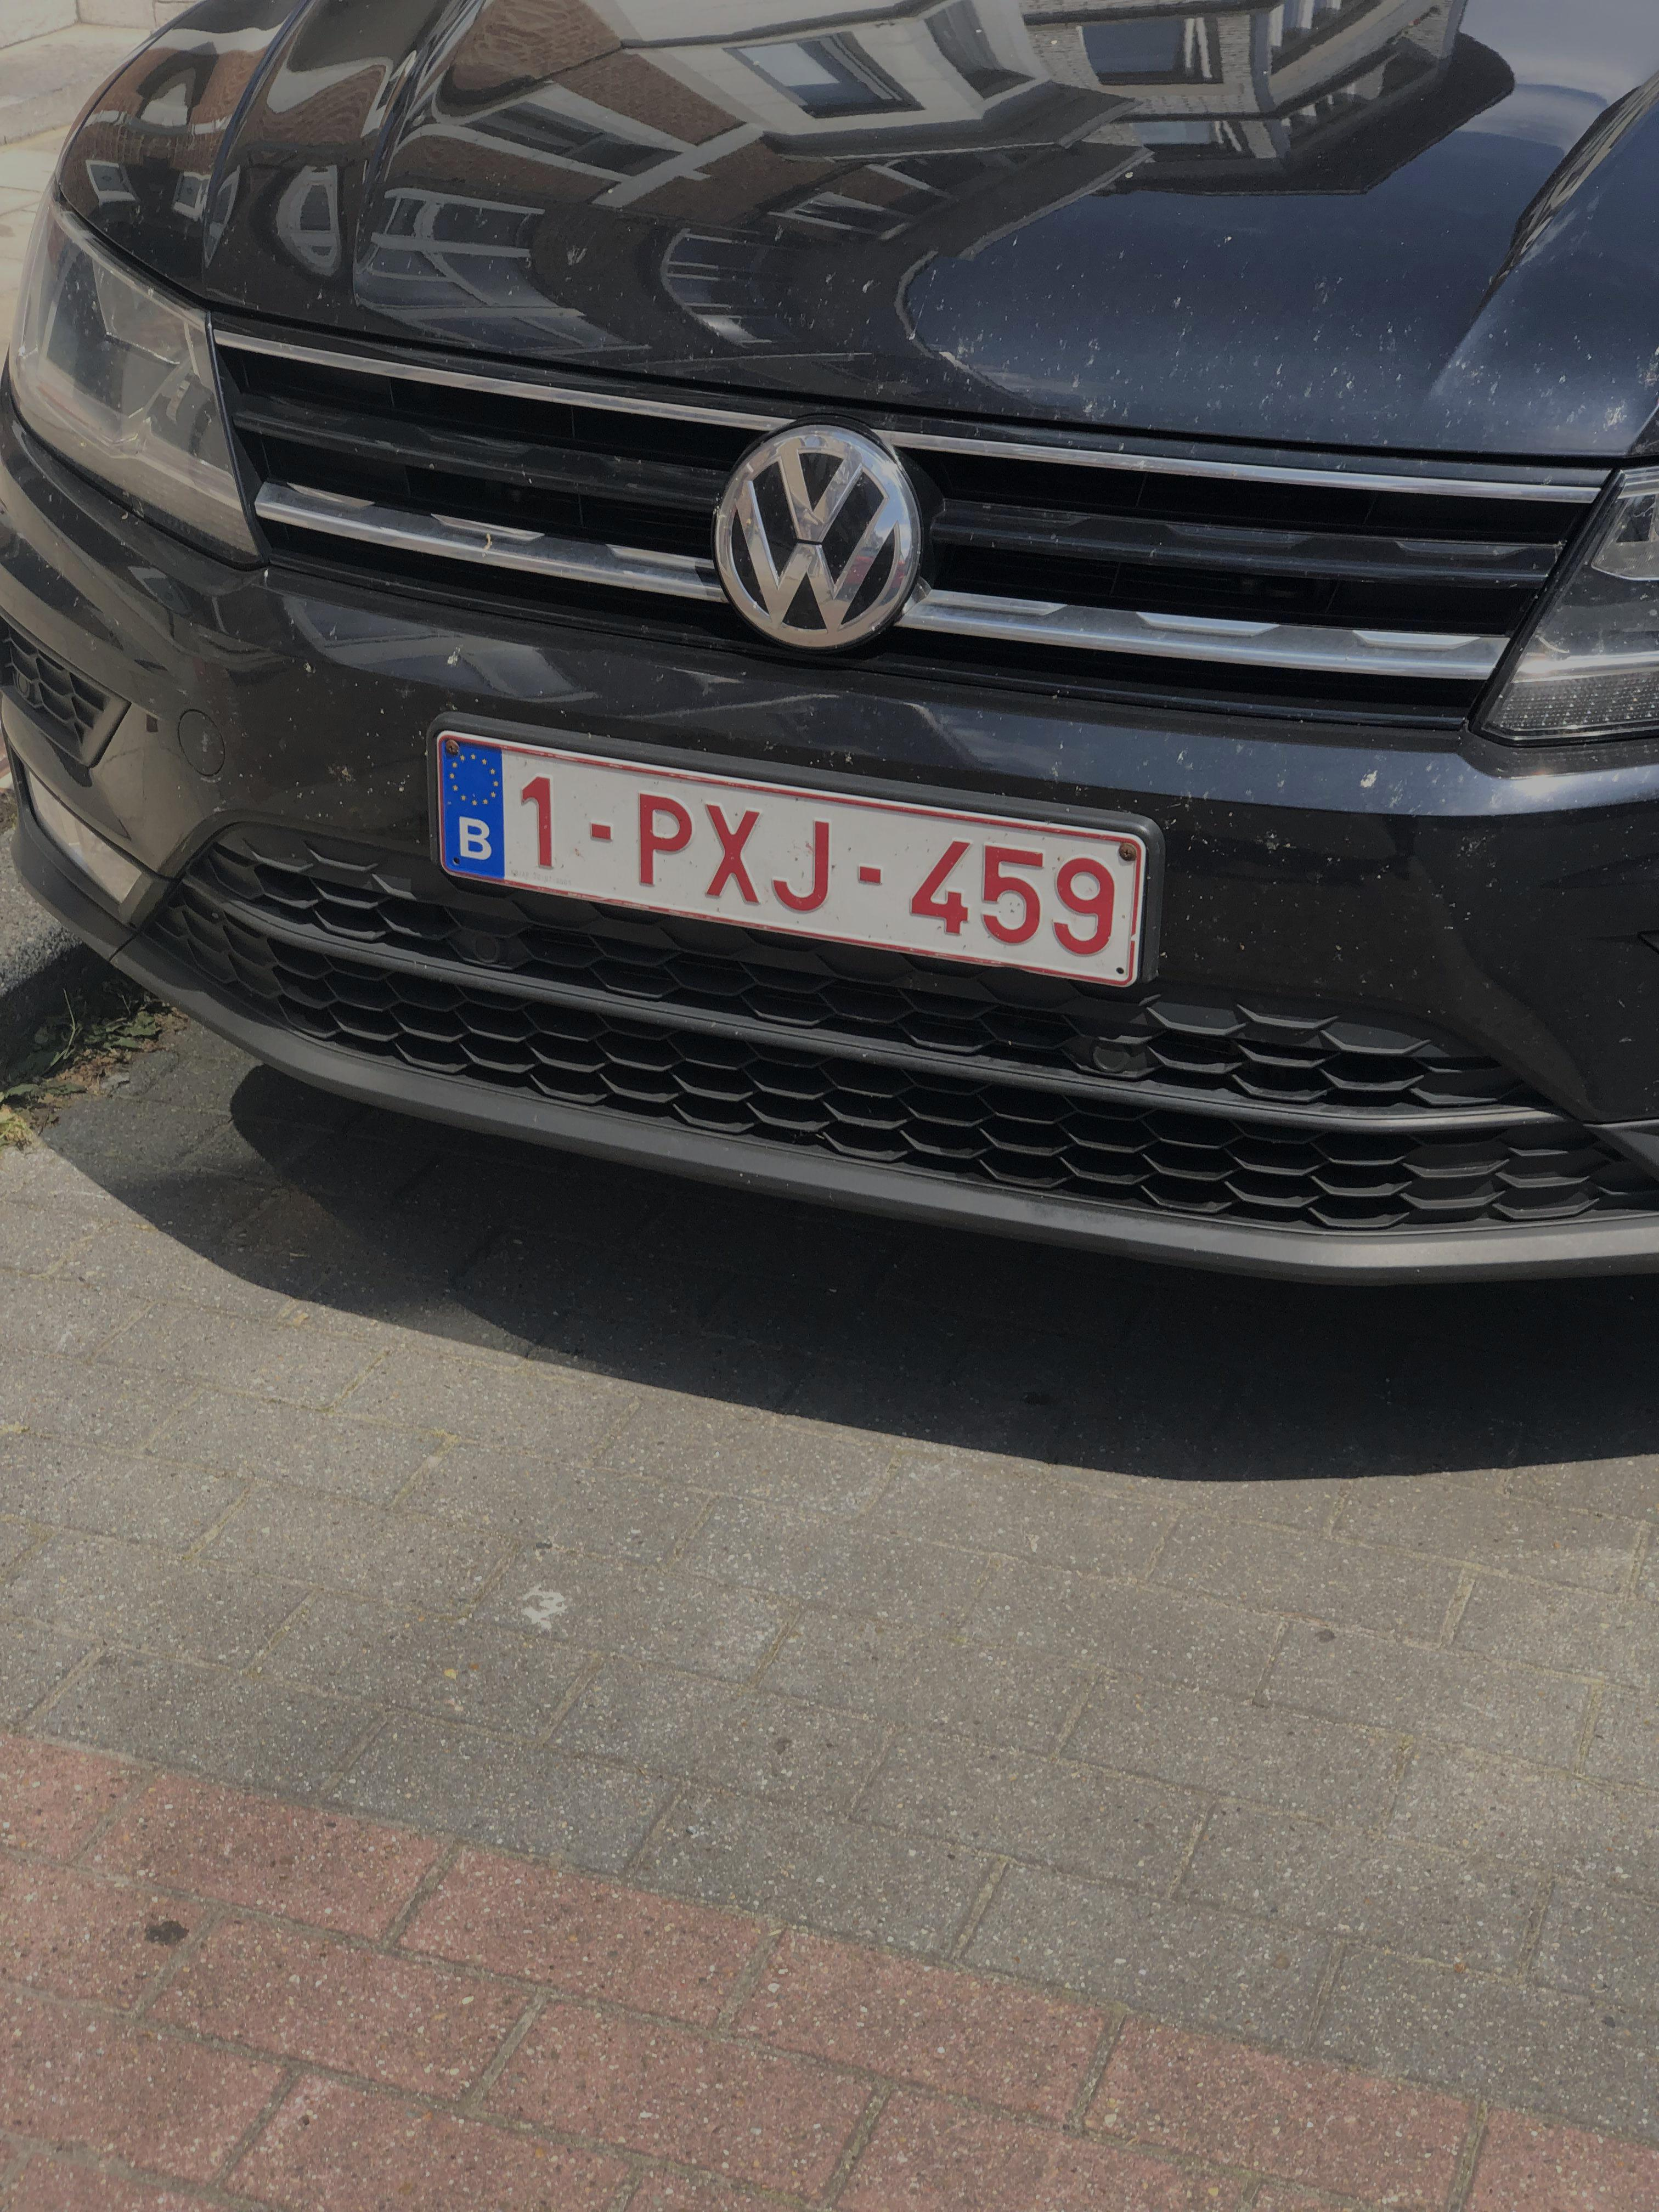plate: (400, 691, 1171, 1006)
